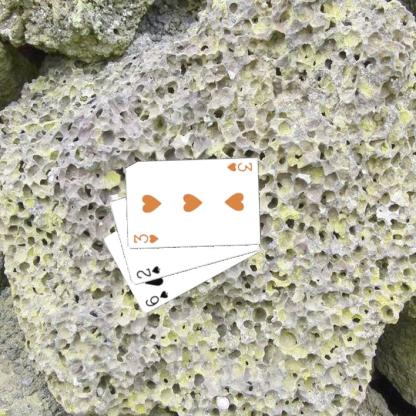2S: (134, 264, 162, 280)
3H: (224, 160, 253, 173), (131, 232, 159, 244)
6S: (142, 288, 169, 308)
